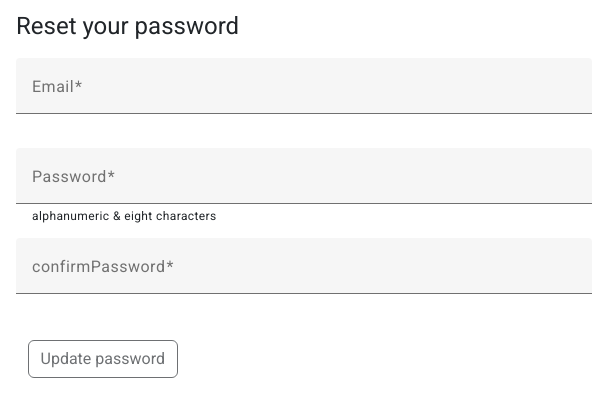
Scenario: ResetPasswordComponent › form completion and submission › password control › should show pattern validation messages when password input does not match patter
This screenshot has width=609, height=395.
Step 1. Type "kyuioptopl" into the password field with placeholder "password" → (304, 184), box [32,172,576,196]
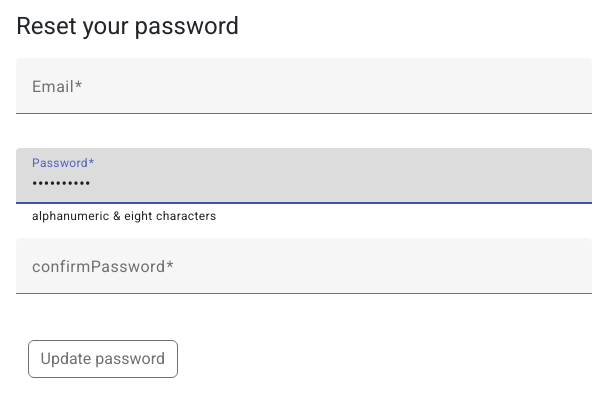
Step 2. Leave the 1st password field, box [32,172,576,196]
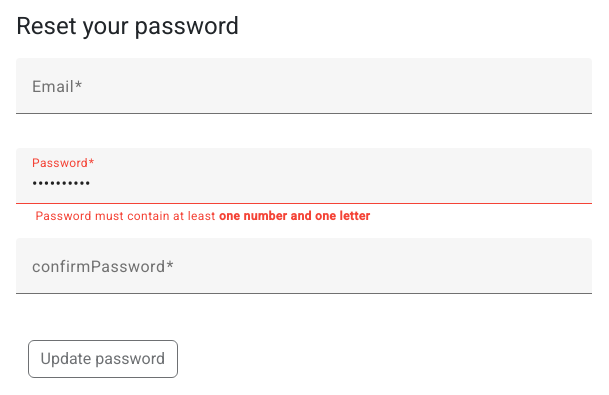
Check: the element showing "Password must contain at least one number and one letter" is shown, box [32,209,370,223]
